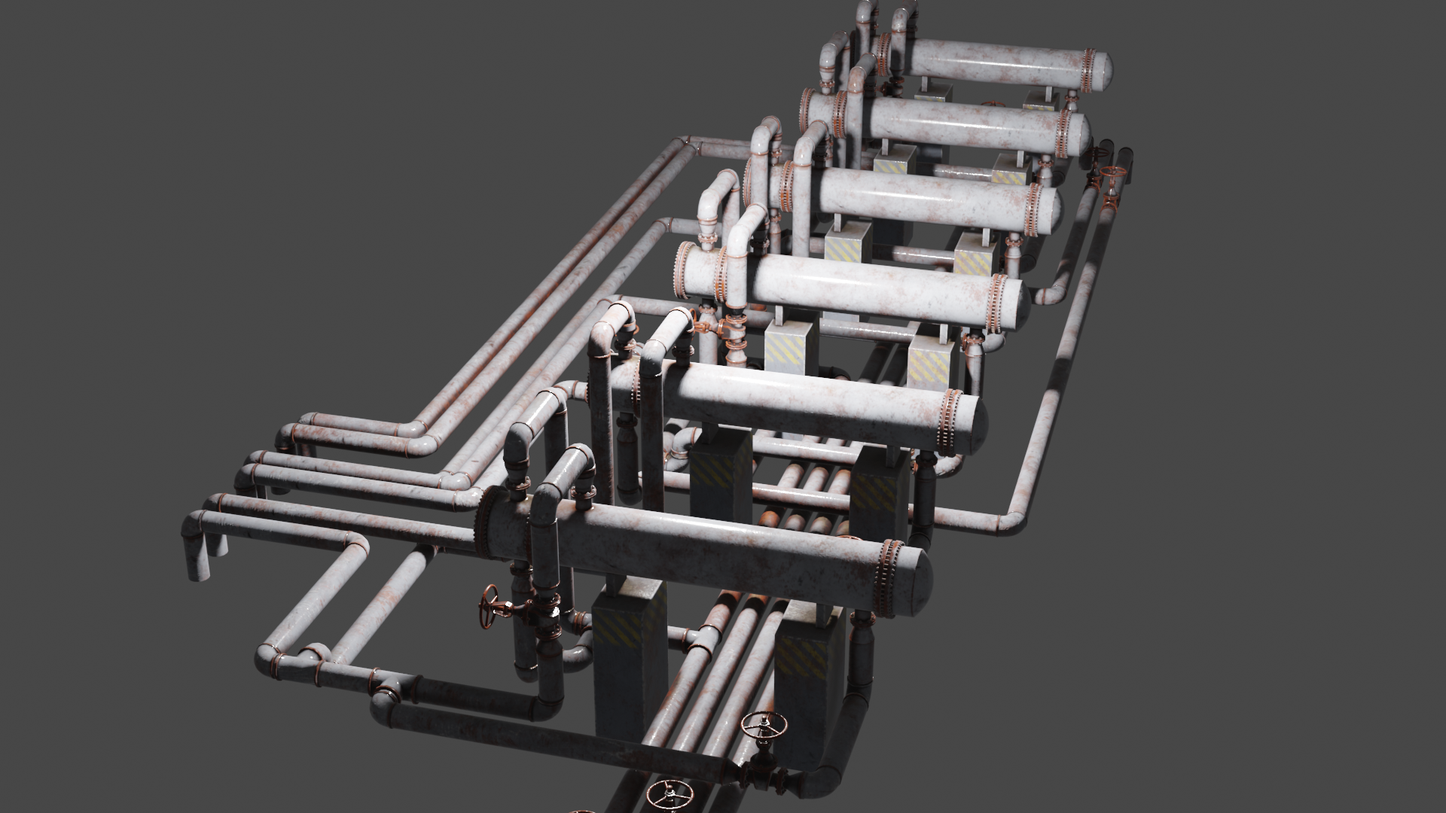HE_1: (868, 33, 1112, 93)
HE_2: (793, 83, 1098, 157)
HE_3: (738, 155, 1064, 240)
HE_4: (665, 241, 1030, 334)
HE_5: (605, 347, 992, 454)
HE_6: (469, 479, 935, 621)
